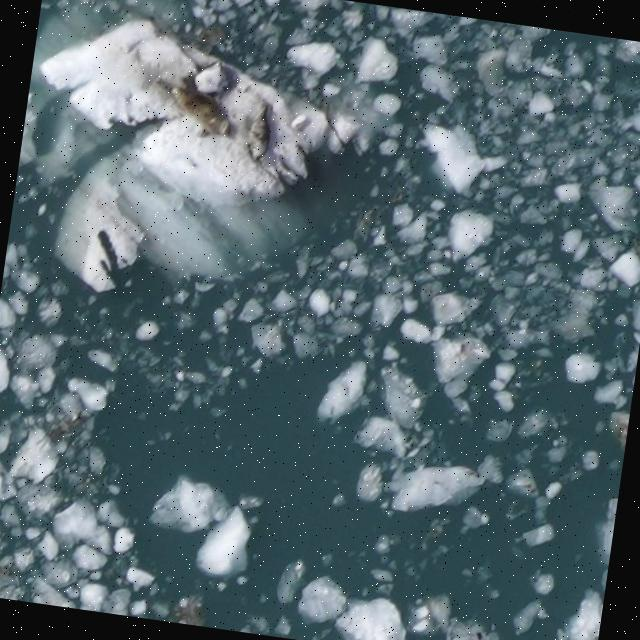seal: (158, 63, 238, 153), (245, 100, 274, 167)
